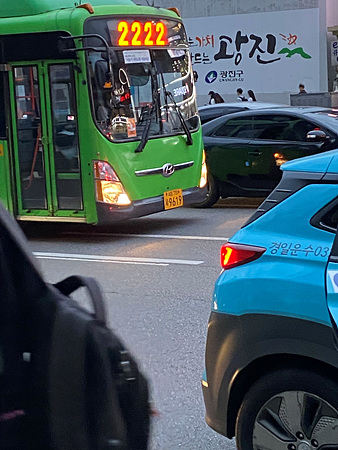entrance: (8, 55, 90, 219)
